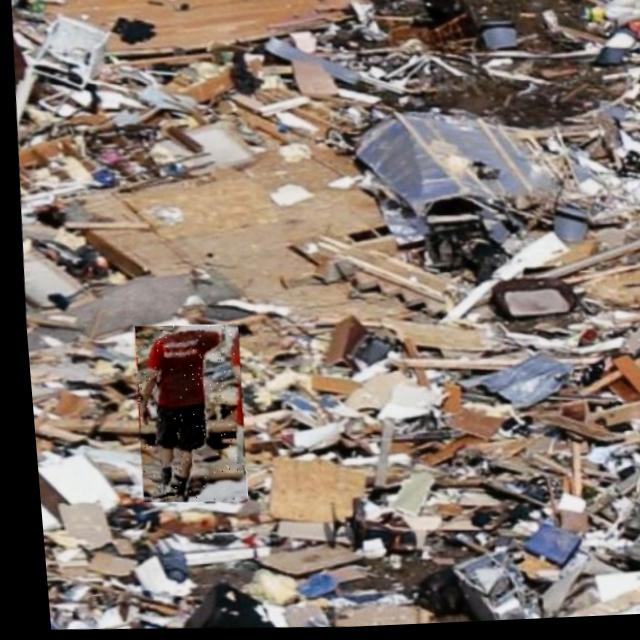Person in Rubble: (123, 323, 244, 507)
